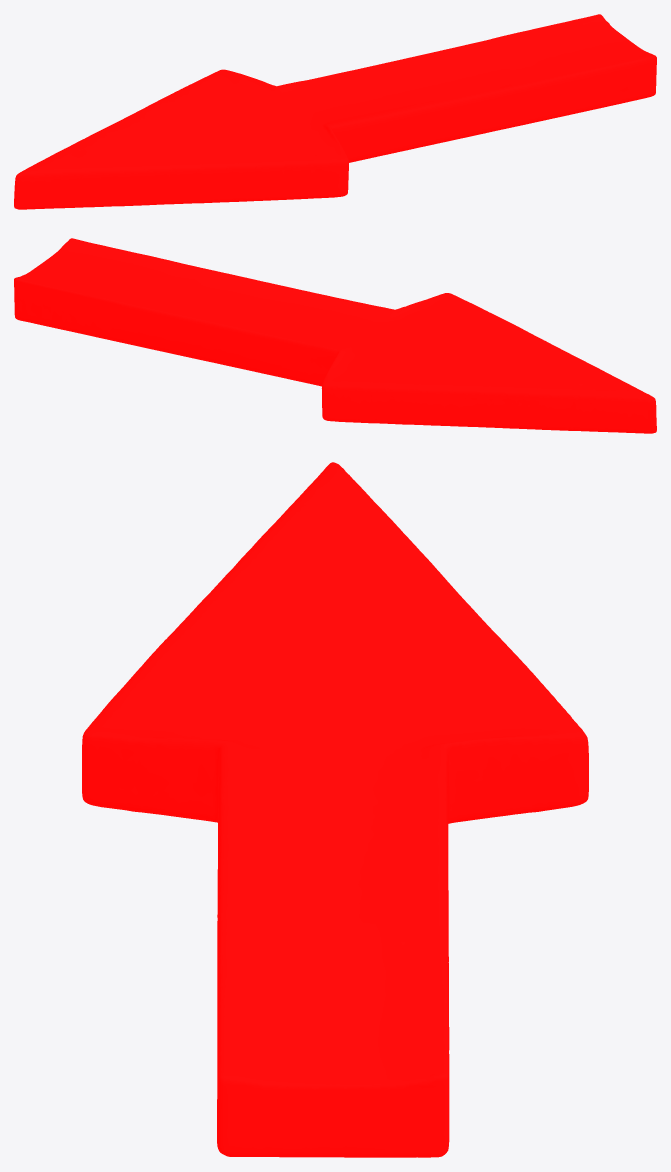
Rendered from modelred.glb.
3 views of the same model, one above another, from view 1: azimuth 30°, elevation 25°; view 2: azimuth 150°, elevation 25°; view 3: azimuth 270°, elevation 25° (orthographic). The views are drawn at different scales.
Visible parts, largest first — view 1: Mesh_0.005; view 2: Mesh_0.005; view 3: Mesh_0.005.
Part boxes in pixels (x1=…): Mesh_0.005: x1=14, y1=14, x2=656, y2=209; Mesh_0.005: x1=14, y1=238, x2=656, y2=433; Mesh_0.005: x1=82, y1=462, x2=588, y2=1157.
Bounding box in the file's own units: 2 × 0.166 × 0.7153.
